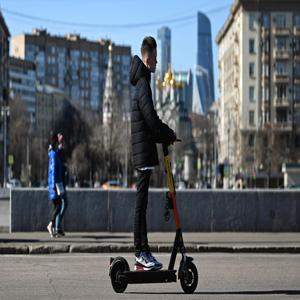human on a scooter: (108, 36, 199, 295)
